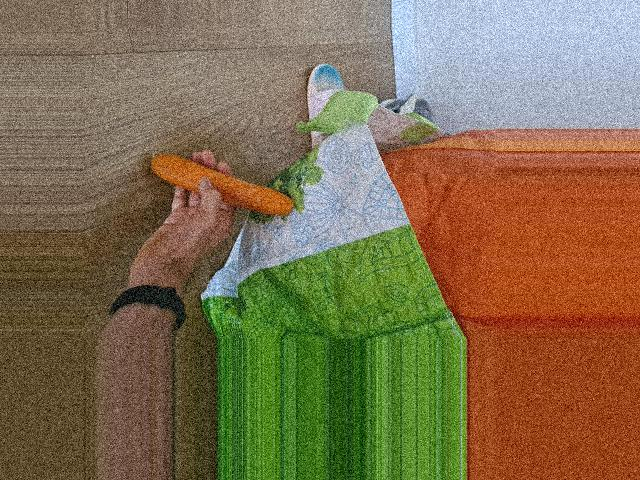carrot: (151, 152, 289, 217)
